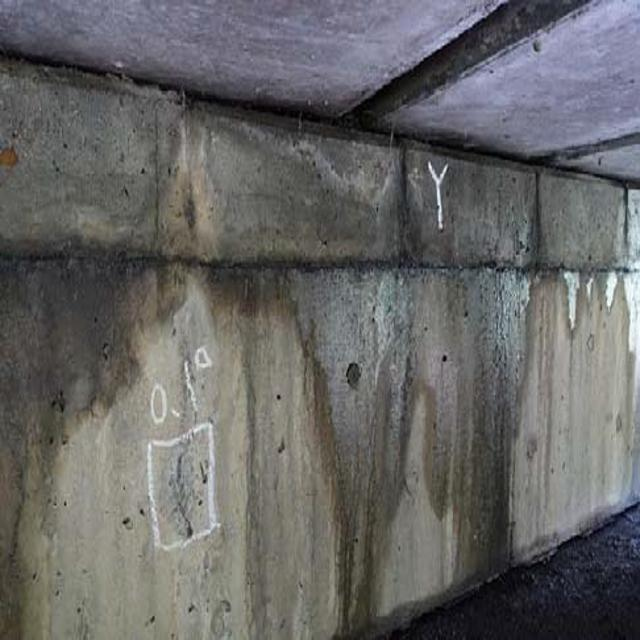leakage: (218, 109, 526, 624), (3, 53, 184, 638), (567, 243, 640, 366)
